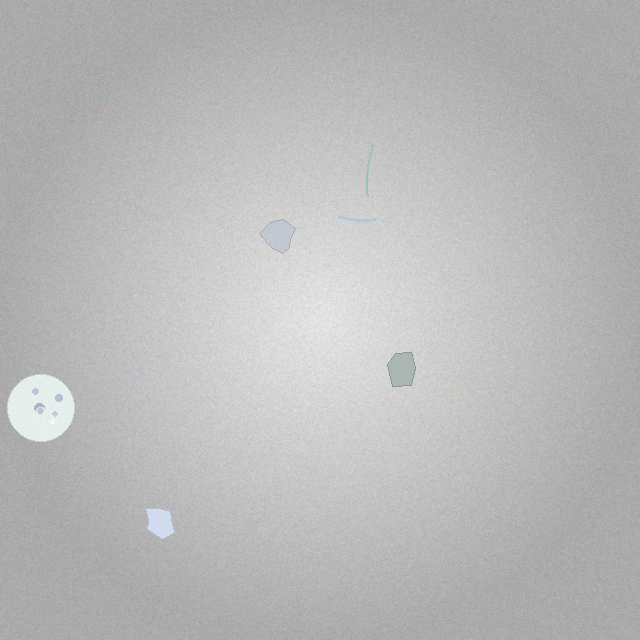fiber: (364, 143, 375, 198), (335, 213, 379, 224)
foam: (7, 375, 74, 442)
fragment: (259, 220, 295, 253), (387, 352, 416, 387), (146, 508, 175, 540)
